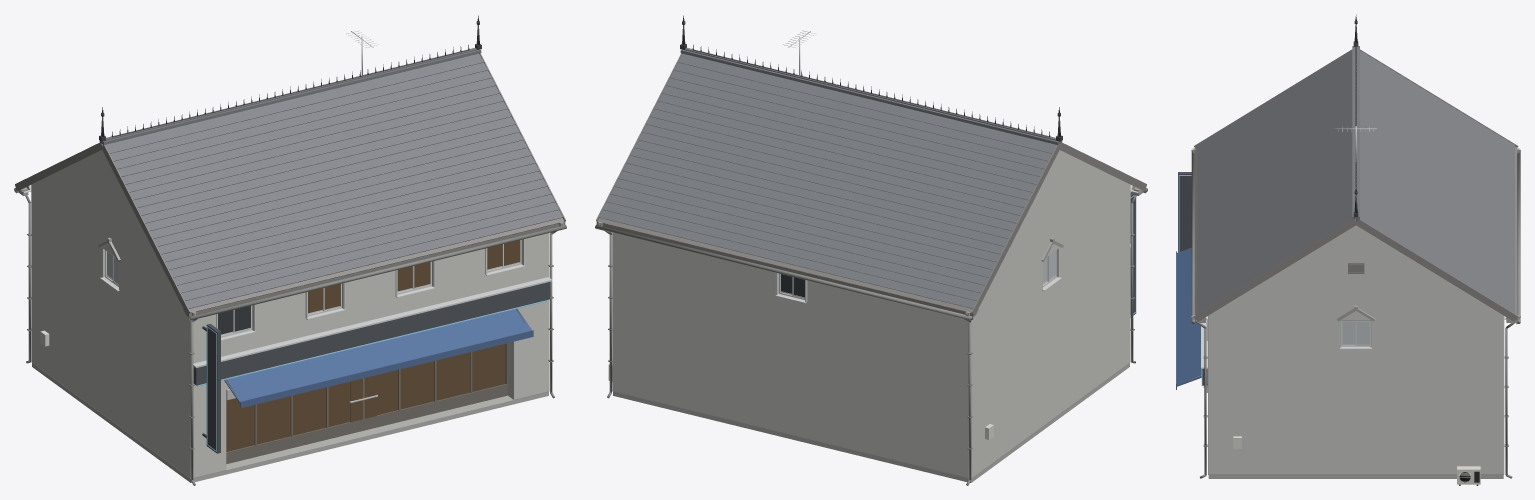
The model's file is blk_arcade.glb.
The picture shows the model from 3 angles, left to right: view 1: azimuth 30°, elevation 25°; view 2: azimuth 150°, elevation 25°; view 3: azimuth 270°, elevation 25°; orthographic projection. The views are drawn at different scales.
Visible parts, largest first — view 1: blk_arcade; view 2: blk_arcade; view 3: blk_arcade.
Part boxes in pixels (x1=…): blk_arcade: x1=14, y1=15, x2=566, y2=485; blk_arcade: x1=595, y1=15, x2=1147, y2=485; blk_arcade: x1=1176, y1=14, x2=1520, y2=485.
Bounding box in the file's own units: 13.99 × 11.32 × 11.64.
